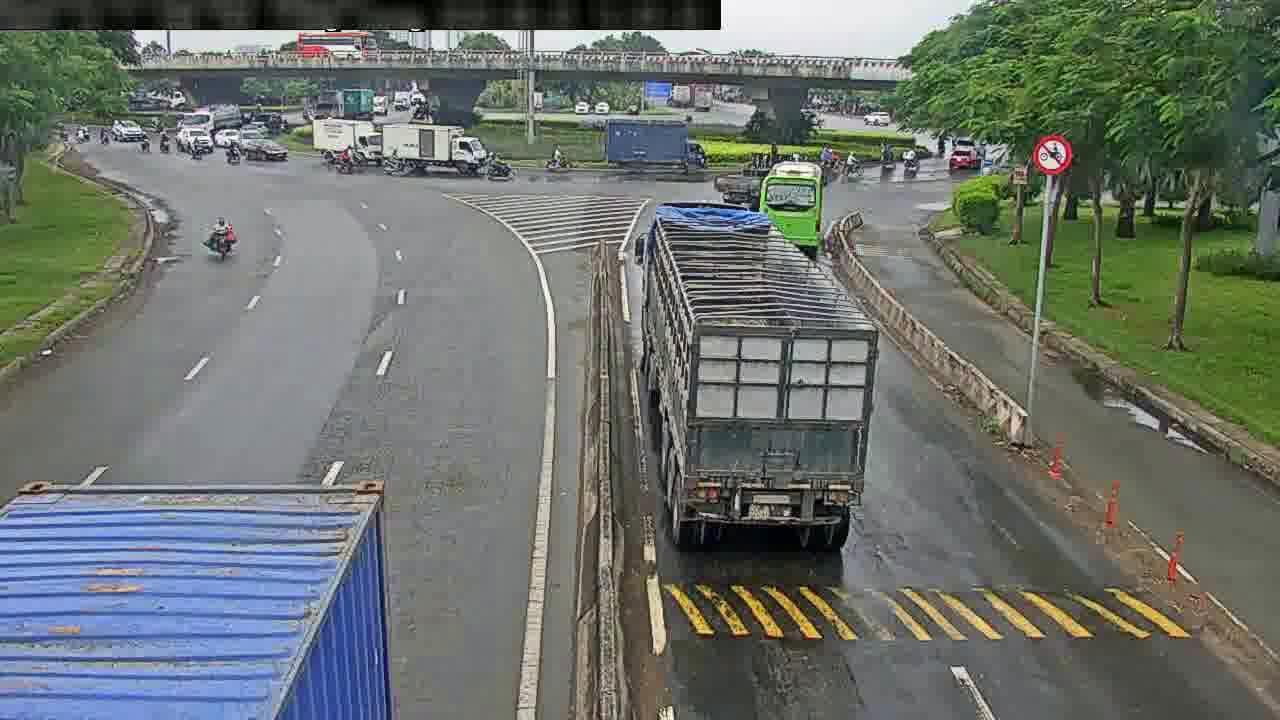14: (753, 155, 824, 238)
8: (631, 195, 880, 555), (377, 118, 498, 175), (602, 116, 704, 170), (309, 117, 388, 163)
motorbike: (207, 218, 241, 260), (484, 151, 514, 180), (545, 145, 572, 171)
